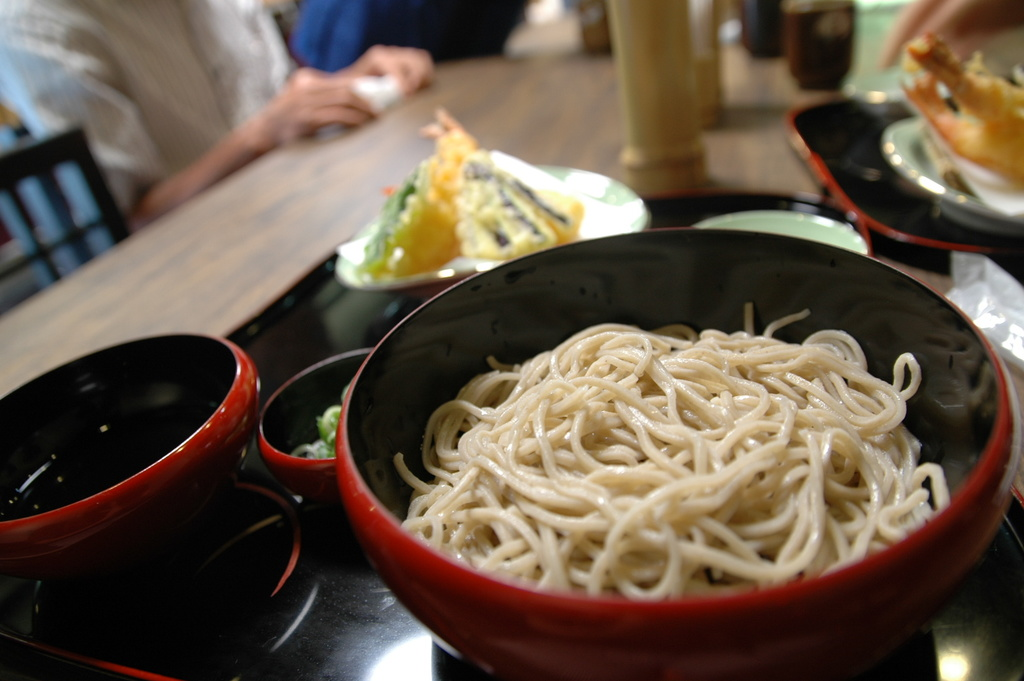pasta: (428, 323, 935, 606)
